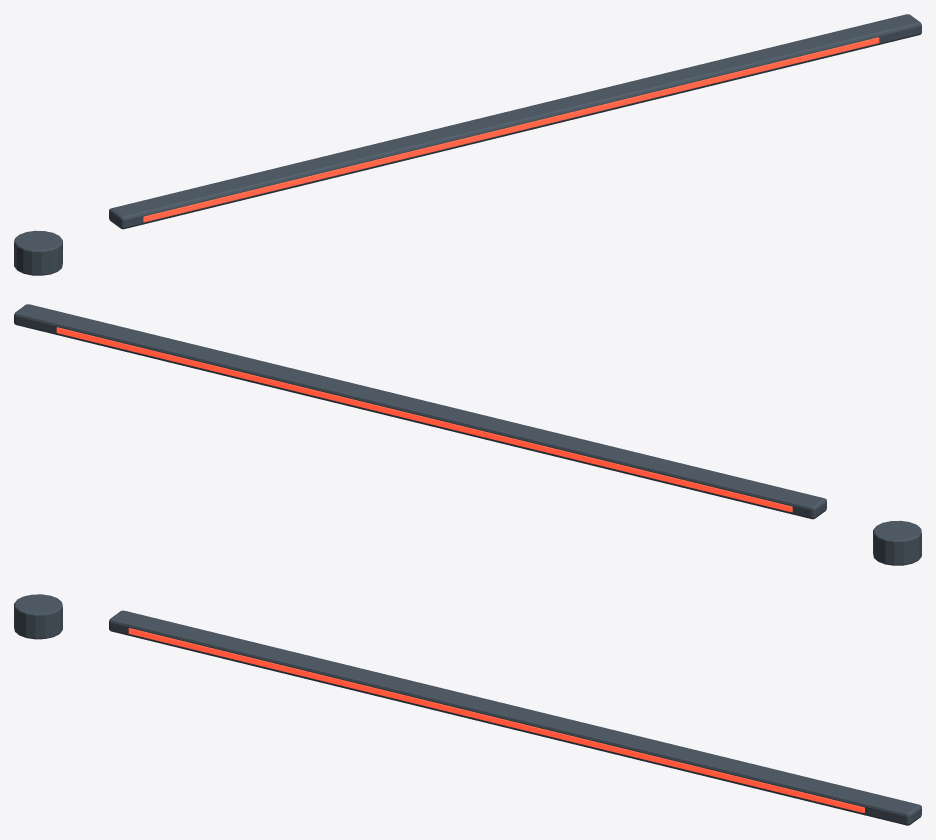
File: BarraGiratoria.fbx
The picture shows the model from 3 angles, top to bottom: view 1: azimuth 30°, elevation 25°; view 2: azimuth 150°, elevation 25°; view 3: azimuth 330°, elevation 25°; orthographic projection.
Parts seen in each view (by area): view 1: BarraGiratoria_HasteMetalica, BarraGiratoria_DetalhesLuminosos, BarraGiratoria_EixoCentral; view 2: BarraGiratoria_HasteMetalica, BarraGiratoria_DetalhesLuminosos, BarraGiratoria_EixoCentral; view 3: BarraGiratoria_HasteMetalica, BarraGiratoria_DetalhesLuminosos, BarraGiratoria_EixoCentral.
Boxes of the visible parts, x1,y1,x2,y2 form: BarraGiratoria_HasteMetalica: (109, 14, 921, 229); BarraGiratoria_DetalhesLuminosos: (143, 37, 879, 222); BarraGiratoria_EixoCentral: (14, 230, 62, 275); BarraGiratoria_HasteMetalica: (14, 304, 826, 519); BarraGiratoria_DetalhesLuminosos: (56, 327, 792, 512); BarraGiratoria_EixoCentral: (873, 520, 921, 565); BarraGiratoria_HasteMetalica: (109, 610, 921, 825); BarraGiratoria_DetalhesLuminosos: (128, 628, 864, 812); BarraGiratoria_EixoCentral: (14, 594, 62, 639).
Bounding box in the file's own units: 1178 × 43 × 56.
